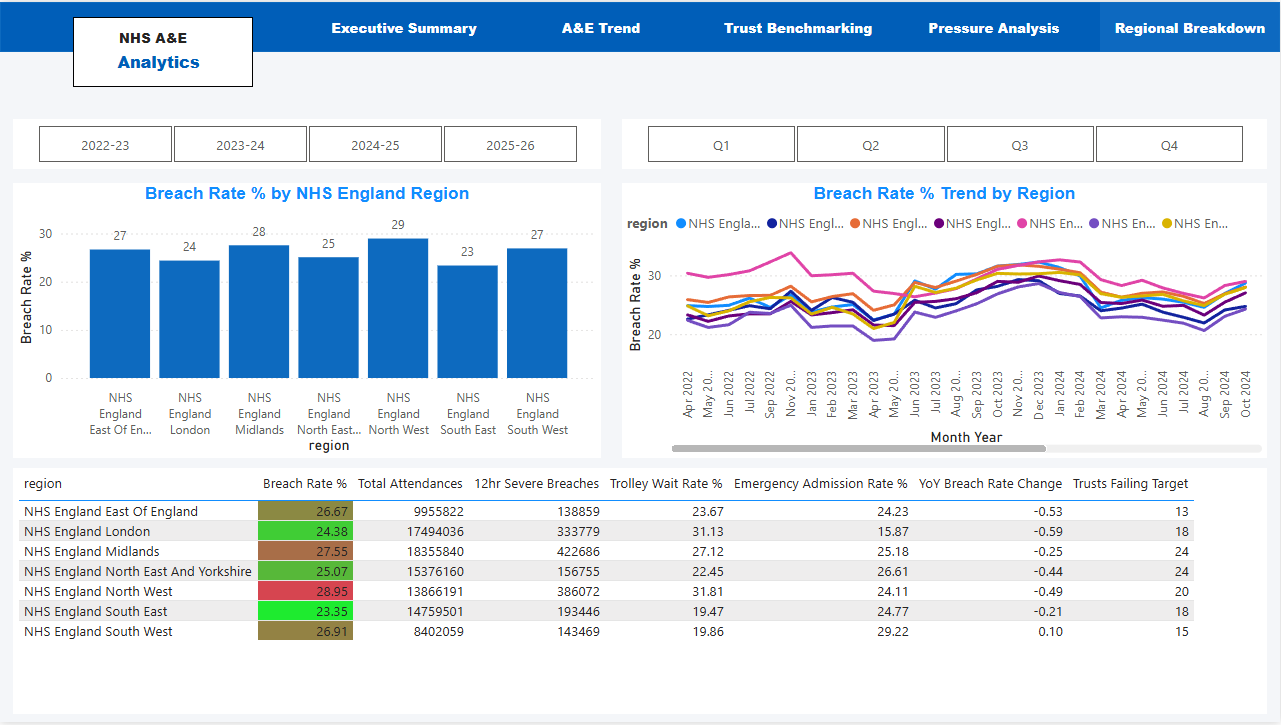

The dashboard page shown, as its layout file describes it:
{"tool":"powerbi","page":{"name":"Regional Breakdown","canvas":[1280,720],"ordinal":4},"visuals":[{"type":"shape","box":[0,0,1280,50],"z":0},{"type":"actionButton","title":"Executive Summary","box":[314,0,180,50],"z":1000},{"type":"shape","box":[73,15,180,70],"z":1000,"group":"g1"},{"type":"actionButton","box":[1100,0,180,50],"z":2000},{"type":"textbox","box":[114,21,90,29],"z":2000,"group":"g1"},{"type":"actionButton","box":[903.5,0,180,50],"z":3000},{"type":"textbox","box":[103,43,111,34],"z":3000,"group":"g1"},{"type":"actionButton","box":[510.5,0,180,50],"z":4000},{"type":"actionButton","box":[708,0,180,50],"z":5000},{"type":"group","id":"g1","title":"Group 1","box":[73,15,180,70],"z":6000},{"type":"slicer","fields":{"Values":["dim_date.Financial Year"]},"box":[13,117,588,50],"z":6001},{"type":"slicer","fields":{"Values":["dim_date.Financial Quarter"]},"box":[622,117,645,50],"z":6002},{"type":"clusteredColumnChart","title":"Breach Rate % by NHS England Region","fields":{"Category":["dim_organisation.region"],"Y":["_Measures.Breach Rate %"]},"box":[13,181,588,275],"z":6003},{"type":"lineChart","title":"Breach Rate % Trend by Region","fields":{"Category":["dim_date.Month Year"],"Series":["dim_organisation.region"],"Y":["_Measures.Breach Rate %"]},"box":[622,181,645,275],"z":6004},{"type":"tableEx","fields":{"Values":["dim_organisation.region","_Measures.Breach Rate %","_Measures.Total Attendances","_Measures.12hr Severe Breaches","_Measures.Trolley Wait Rate %","_Measures.Emergency Admission Rate %","_Measures.YoY Breach Rate Change","_Measures.Trusts Failing Target"]},"box":[13,466,1254,246],"z":6005}]}

Visuals, with their boxes in screenshot pixels (x1, y1, x2, y2), scaled from the page's 1280x720 canvas onto the 1281x725 screenshot:
shape: (x1=0, y1=0, x2=1280, y2=50)
"Executive Summary" actionButton: (x1=314, y1=0, x2=494, y2=50)
shape: (x1=73, y1=15, x2=253, y2=86)
actionButton: (x1=1101, y1=0, x2=1280, y2=50)
textbox: (x1=114, y1=21, x2=204, y2=50)
actionButton: (x1=904, y1=0, x2=1084, y2=50)
textbox: (x1=103, y1=43, x2=214, y2=78)
actionButton: (x1=511, y1=0, x2=691, y2=50)
actionButton: (x1=709, y1=0, x2=889, y2=50)
"Group 1" group: (x1=73, y1=15, x2=253, y2=86)
slicer - dim_date.Financial Year: (x1=13, y1=118, x2=601, y2=168)
slicer - dim_date.Financial Quarter: (x1=622, y1=118, x2=1268, y2=168)
"Breach Rate % by NHS England Region" clusteredColumnChart: (x1=13, y1=182, x2=601, y2=459)
"Breach Rate % Trend by Region" lineChart: (x1=622, y1=182, x2=1268, y2=459)
tableEx - dim_organisation.region x _Measures.Breach Rate %: (x1=13, y1=469, x2=1268, y2=717)
